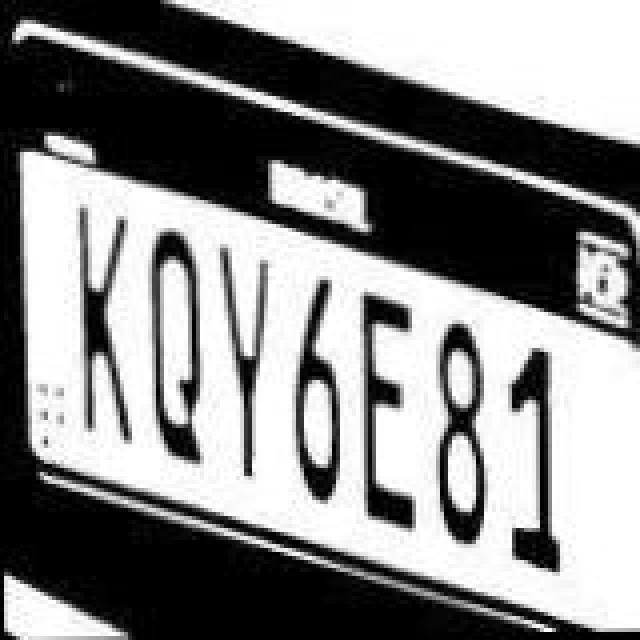1: (502, 338, 566, 578)
6: (288, 260, 348, 508)
8: (434, 314, 498, 554)
E: (354, 284, 418, 540)
K: (74, 188, 138, 448)
Q: (146, 220, 210, 472)
Y: (218, 234, 282, 490)
